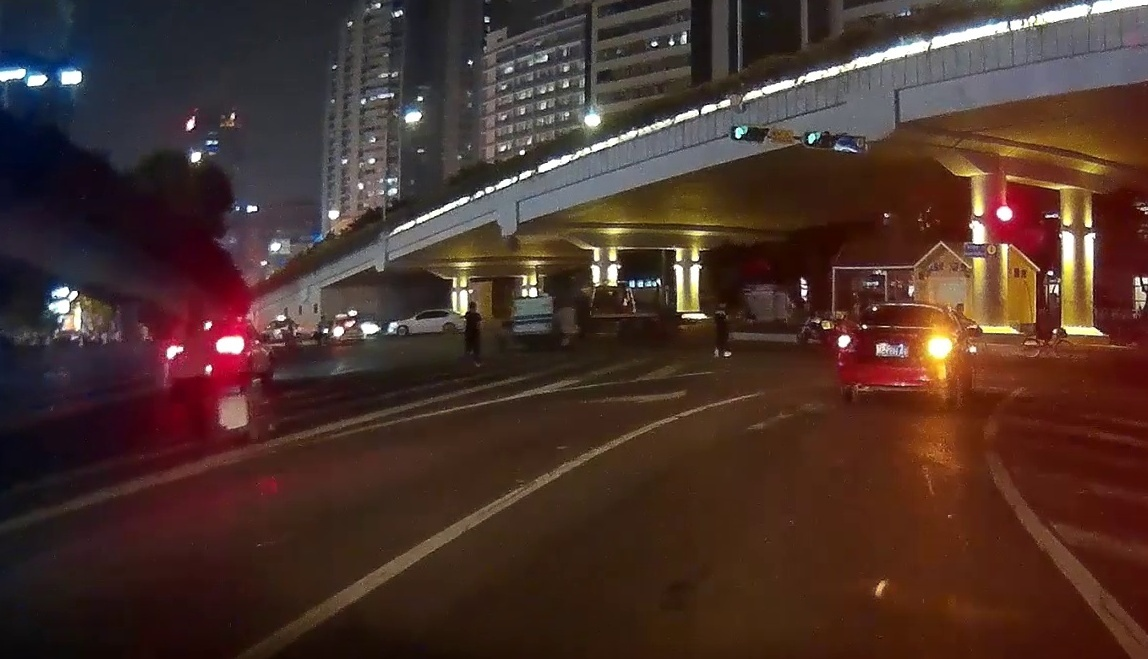L_light: (838, 336, 852, 348)
R_light: (927, 338, 952, 352)
T_light: (894, 305, 910, 311)
night-right: (837, 303, 955, 411)
